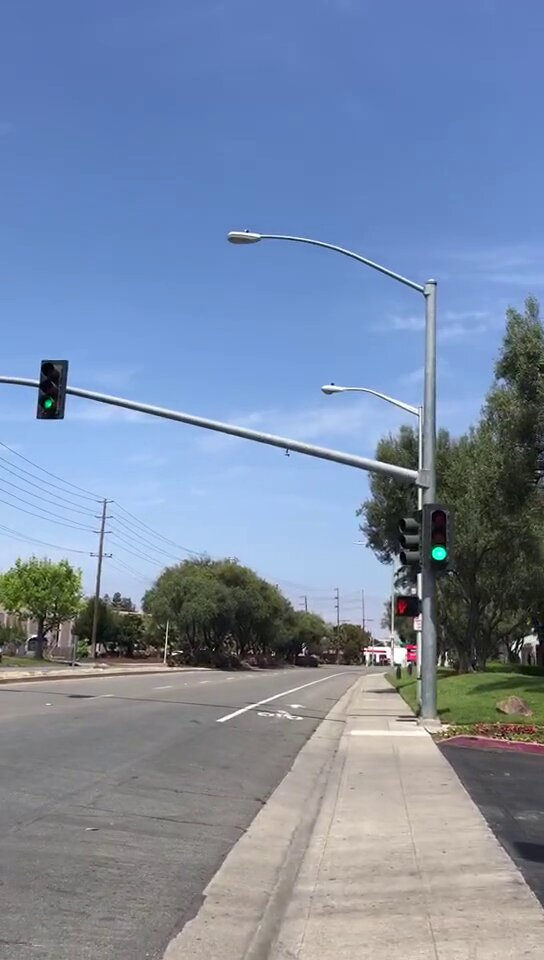green_light: (424, 505, 454, 566), (40, 362, 62, 415)
